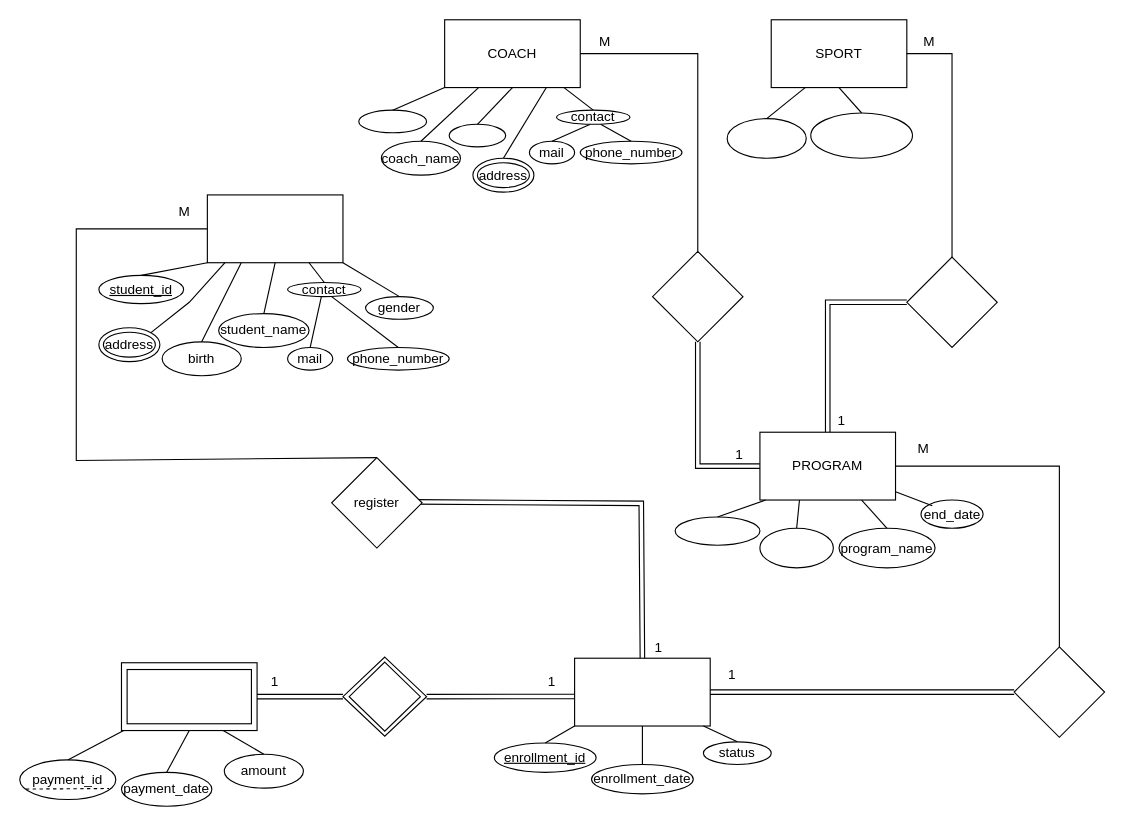
This 1124x826 diagram has some shape labels left out. Here are the shapes that lost their labels. From the top down, the centre of each, then its label:
pixel 392 121: coach_id
pixel 477 135: speciality
pixel 766 138: sport_id
pixel 861 135: sport_name
pixel 274 228: STUDENT
pixel 697 296: managed_by
pixel 951 301: belongs_to
pixel 717 530: program_id
pixel 796 547: start_date
pixel 188 696: PAYMENT
pixel 384 696: pays
pixel 641 691: ENROLMENT
pixel 1059 691: offers
